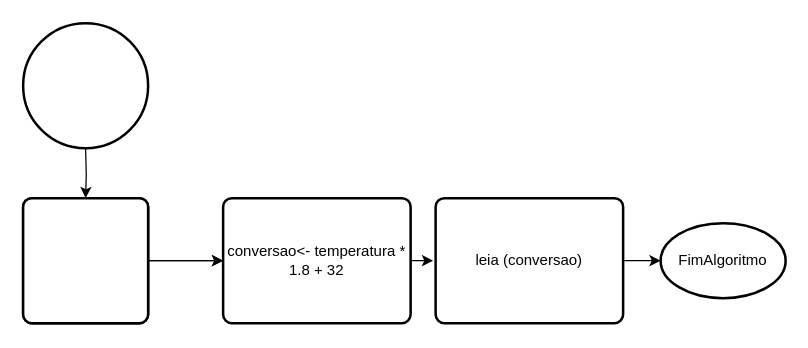
The diagram is 808 pixels wide and 348 high, and some of its shapes have lost their labels. The centre of each missing label's shape, as x and y in pixels:
"Início" goes at (85,85).
"var temperatura, conversao:real" goes at (85,260).
